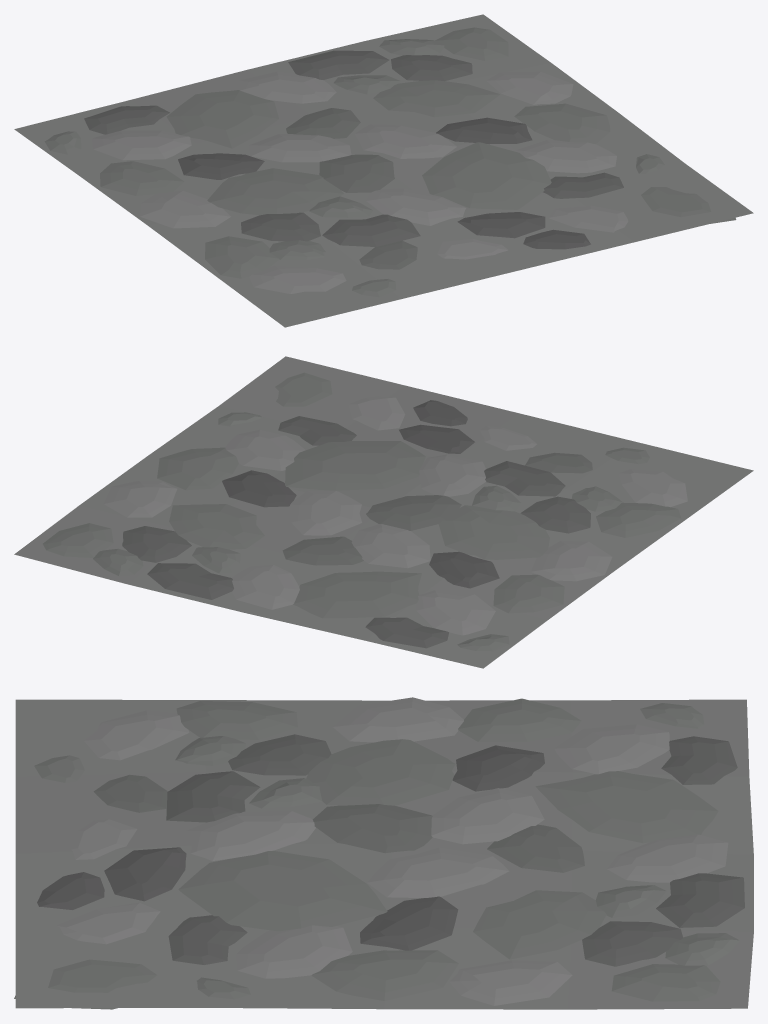
File: PovementTile_1.fbx
The picture shows the model from 3 angles, top to bottom: view 1: azimuth 30°, elevation 25°; view 2: azimuth 150°, elevation 25°; view 3: azimuth 270°, elevation 25°; orthographic projection. The views are drawn at different scales.
Parts seen in each view (by area): view 1: PovementTile_1; view 2: PovementTile_1; view 3: PovementTile_1.
Boxes of the visible parts, x1,y1,x2,y2 form: PovementTile_1: (14,14,753,327); PovementTile_1: (14,356,753,668); PovementTile_1: (14,697,753,1009).
Bounding box in the file's own units: 803 × 18.61 × 810.
